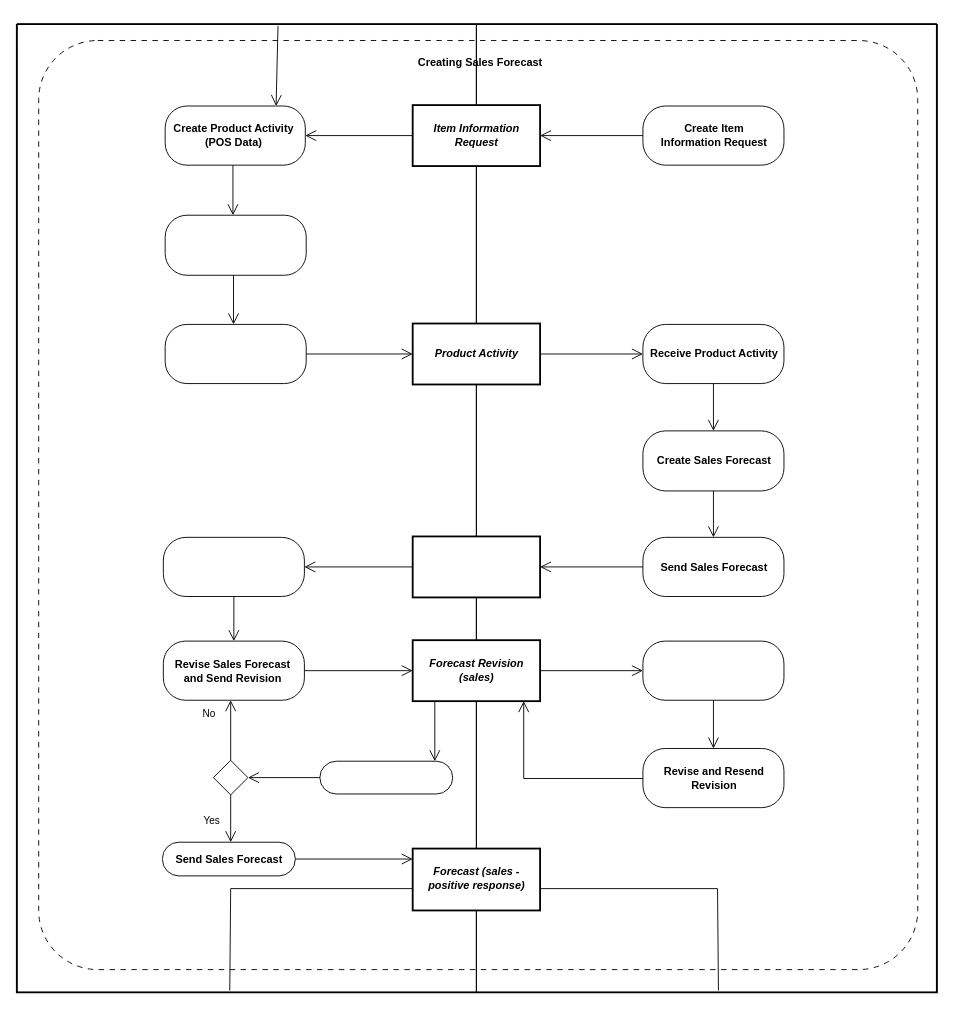
Image size: 953x1009. Some labels were removed from this diagram. Each missing label, with the centre of its shape:
Create Product Activity (DC Data): point 235,244
Forecast (sales): point 476,566
Receive Revision: point 386,777
Receive Sales Forecast: point 233,566
Receive Sales Forecast Revision: point 713,670
Sales Forecast Accepted?: point 230,777
Send Product Activity: point 235,354
